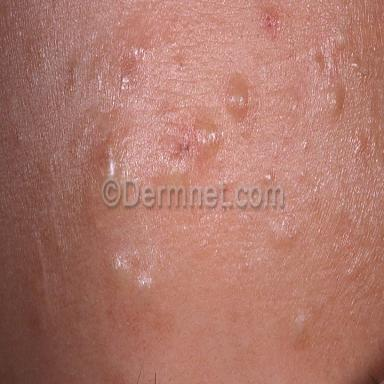acne: (193, 117, 219, 163), (226, 75, 248, 123), (268, 220, 294, 255), (291, 313, 309, 351), (326, 85, 345, 117), (137, 271, 153, 296), (104, 148, 117, 178), (113, 252, 131, 273)
